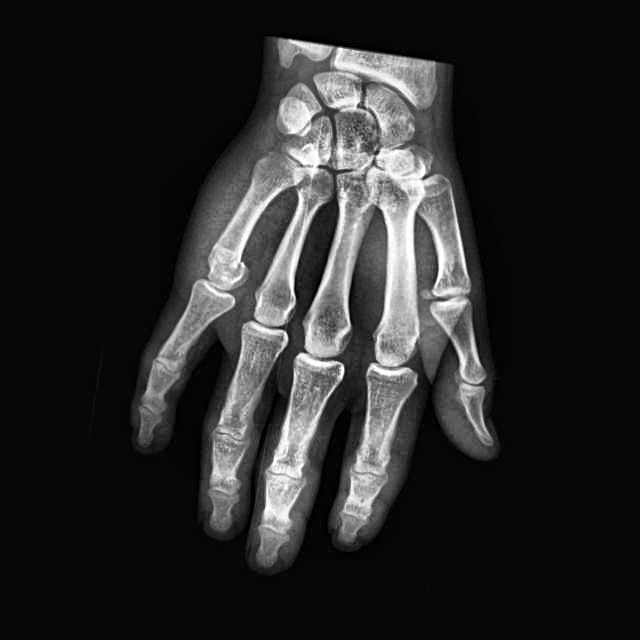Comminuted: (201, 240, 251, 288)
